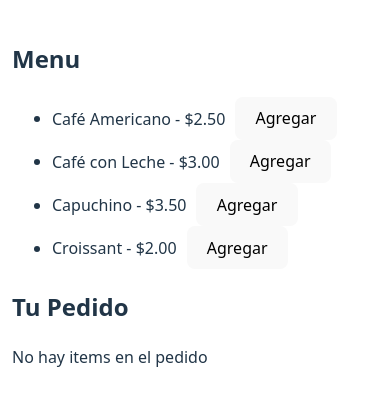
Scenario: HU2 - Agregar ítem al pedido › debe agregar productos al área de pedido
Expected: the list item "Café Americano - $2.50 Agregar" is shown, [52, 97, 336, 140]
Click the button "Agregar" in the row of "Café Americano".
click(286, 118)  # box [235, 97, 336, 140]
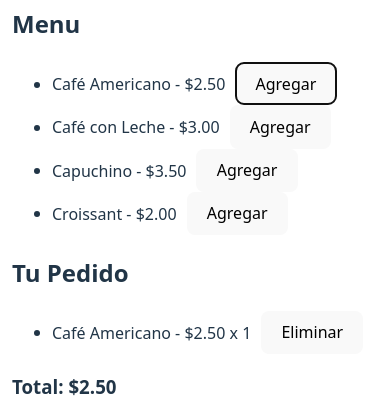
Result: the number of lists is 2 at [52, 62, 336, 235]; [12, 311, 363, 354]
Result: the list item "Café Americano - $2.50 x 1 Eliminar" is shown at [52, 311, 363, 354]
